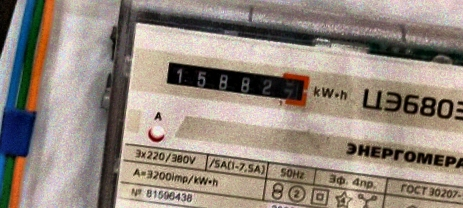1: (172, 64, 185, 84)
2: (259, 76, 273, 96)
5: (194, 69, 207, 87)
7: (281, 87, 293, 99)
8: (215, 71, 229, 90), (237, 74, 251, 93)
screen: (156, 49, 315, 114)
